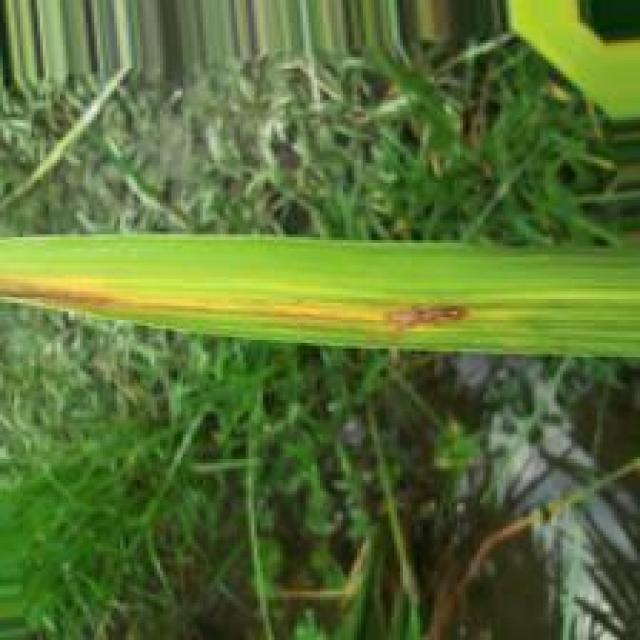Narrow_Brown_Leaf_Spot: (1, 260, 482, 334)
